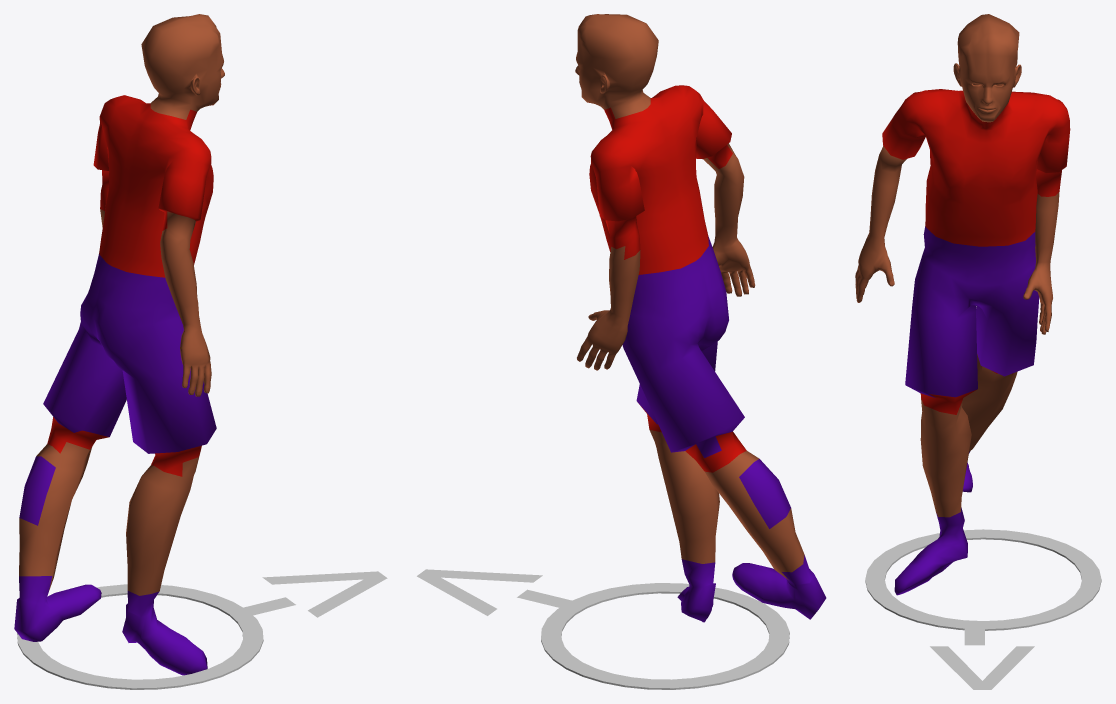
File: player_000023.obj
3 views of the same model, side by side, from view 1: azimuth 30°, elevation 25°; view 2: azimuth 150°, elevation 25°; view 3: azimuth 270°, elevation 25° (orthographic). The views are drawn at different scales.
Parts seen in each view (by area): view 1: soccerplayer.002_mesh.003, Circle, Text.001_Mesh.001; view 2: soccerplayer.002_mesh.003, Circle, Text.001_Mesh.001; view 3: soccerplayer.002_mesh.003, Circle, Text.001_Mesh.001.
Part boxes in pixels (x1=…): soccerplayer.002_mesh.003: x1=14, y1=14, x2=224, y2=675; Circle: x1=17, y1=584, x2=263, y2=689; Text.001_Mesh.001: x1=238, y1=571, x2=387, y2=617; soccerplayer.002_mesh.003: x1=575, y1=14, x2=826, y2=622; Circle: x1=541, y1=583, x2=789, y2=689; Text.001_Mesh.001: x1=417, y1=569, x2=575, y2=615; soccerplayer.002_mesh.003: x1=855, y1=14, x2=1070, y2=595; Circle: x1=865, y1=529, x2=1101, y2=630; Text.001_Mesh.001: x1=930, y1=623, x2=1034, y2=689.
Size of the model in its own units: 1.94 by 2.99 by 1.13.
